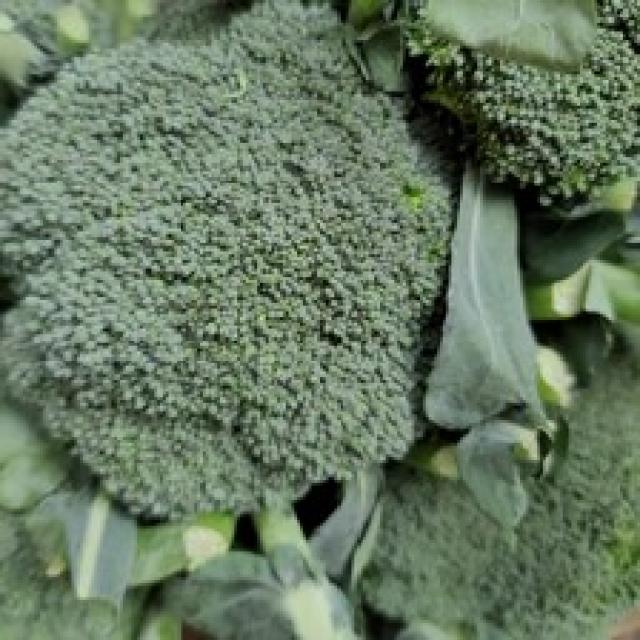Broccoli: (0, 2, 448, 514), (0, 2, 446, 514), (410, 1, 640, 204), (410, 1, 640, 203)
